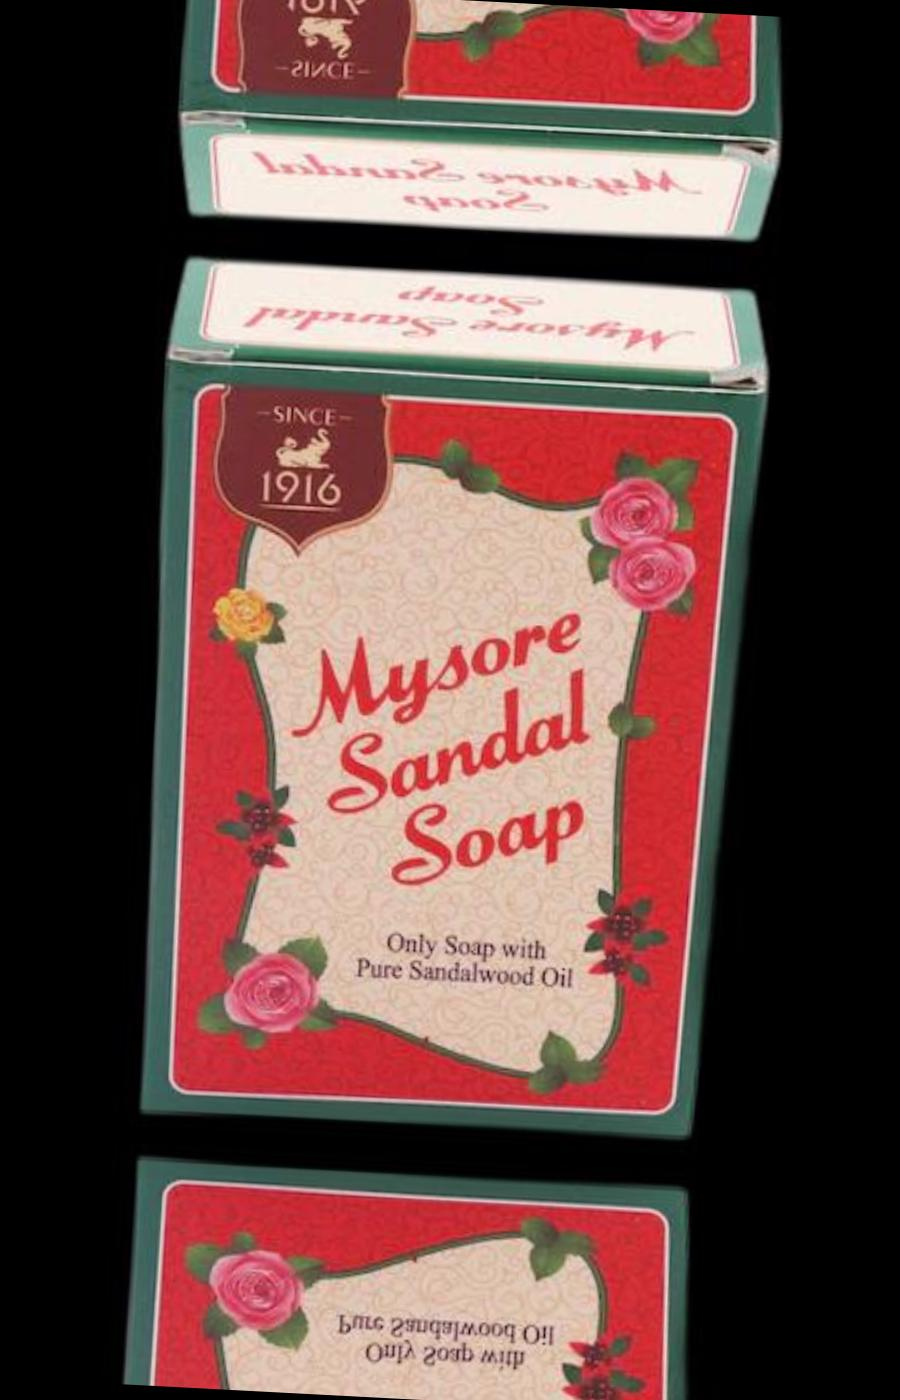Mysore Sandal Soap 125 g: (129, 254, 742, 1142), (114, 1155, 694, 1400), (176, 0, 755, 244)
